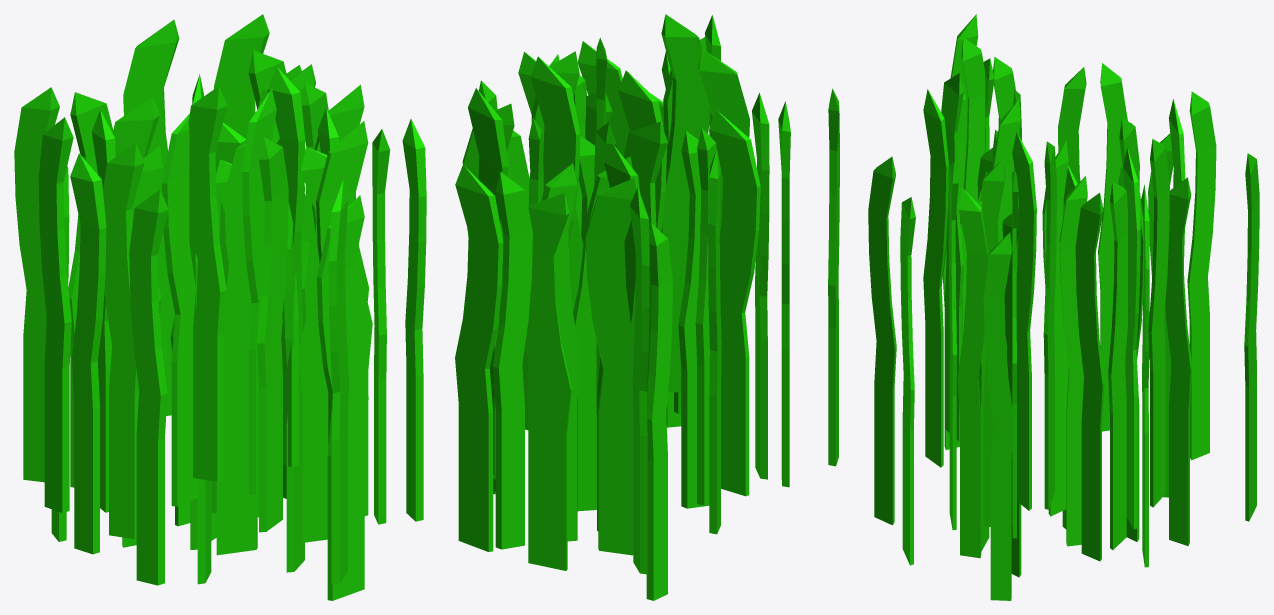
Rendered from Wheat Model.fbx.
3 renders of one model, left to right at view 1: azimuth 30°, elevation 25°; view 2: azimuth 150°, elevation 25°; view 3: azimuth 270°, elevation 25°, orthographic. The views are drawn at different scales.
Visible parts, largest first — view 1: grassLightGreen.074; view 2: grassLightGreen.074; view 3: grassLightGreen.074.
Boxes of the visible parts, x1,y1,x2,y2 form: grassLightGreen.074: [14, 14, 426, 600]; grassLightGreen.074: [455, 14, 839, 600]; grassLightGreen.074: [868, 14, 1259, 600].
Bounding box in the file's own units: 51.44 × 71.14 × 51.76.
